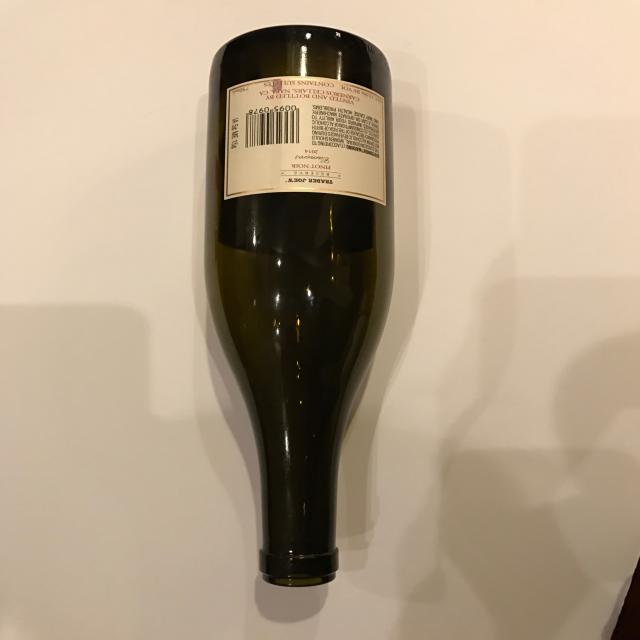glass: (210, 18, 393, 584)
